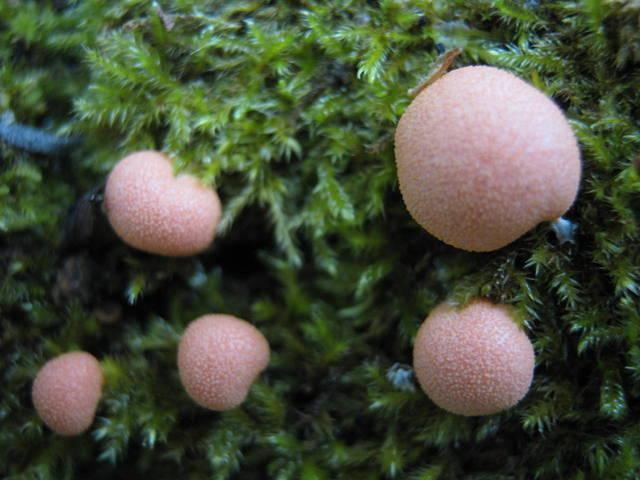Non-edible Mushroom: (392, 63, 582, 252), (412, 296, 536, 417), (102, 148, 222, 257), (175, 312, 270, 411), (30, 349, 103, 436)
